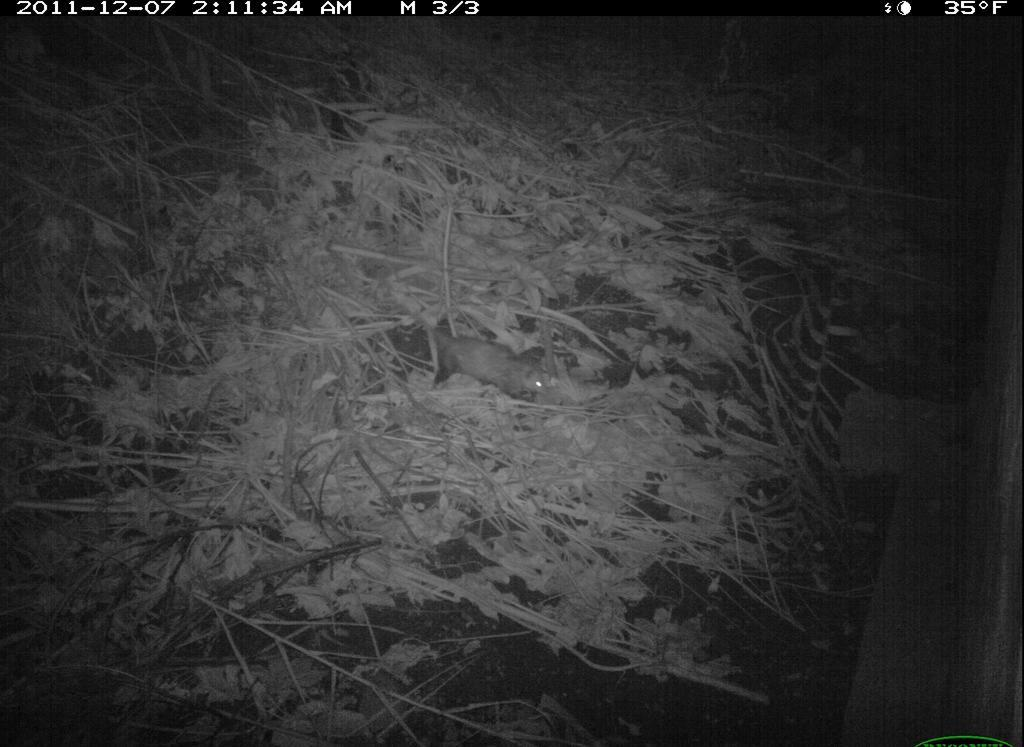opossum: (410, 291, 562, 419)
